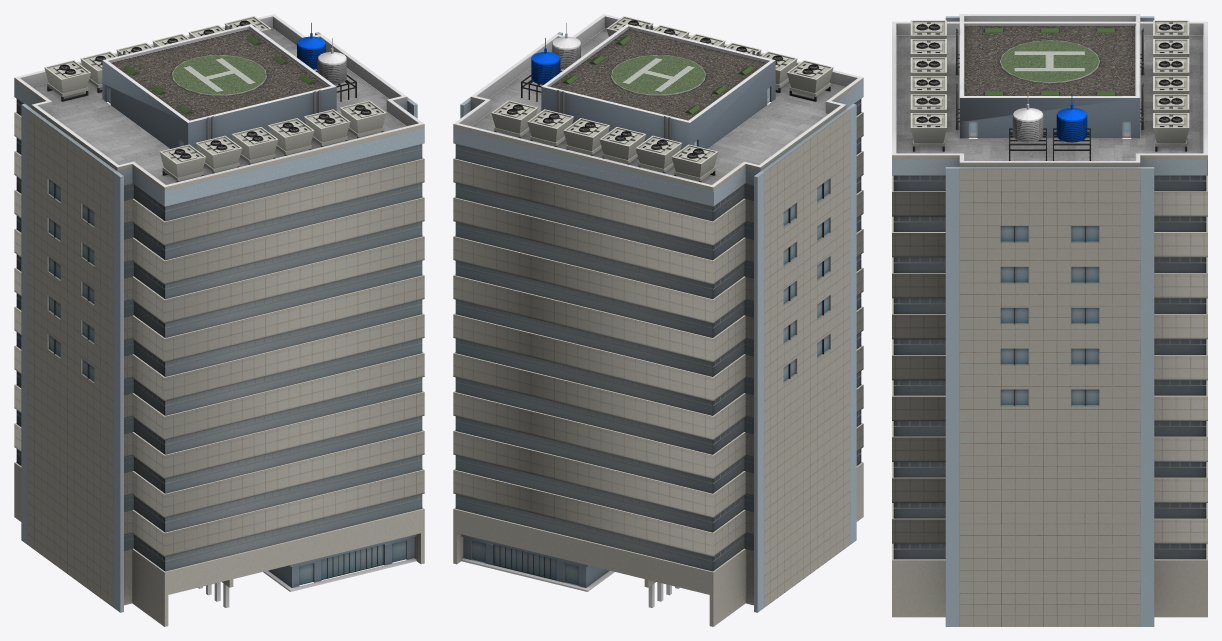
3 renders of one model, left to right at view 1: azimuth 30°, elevation 25°; view 2: azimuth 150°, elevation 25°; view 3: azimuth 270°, elevation 25°, orthographic. The views are drawn at different scales.
Parts seen in each view (by area): view 1: MainBuilding; view 2: MainBuilding; view 3: MainBuilding.
Part boxes in pixels (left/top/right/bottom): MainBuilding: left=14, top=14, right=424, bottom=626; MainBuilding: left=453, top=14, right=863, bottom=626; MainBuilding: left=892, top=14, right=1207, bottom=626.
Size of the model in its own units: 4 by 6.23 by 3.5.
Materials: 1 (1 with a texture image).
